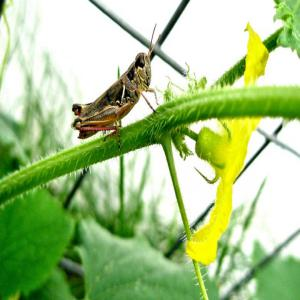locust: (57, 24, 169, 139)
